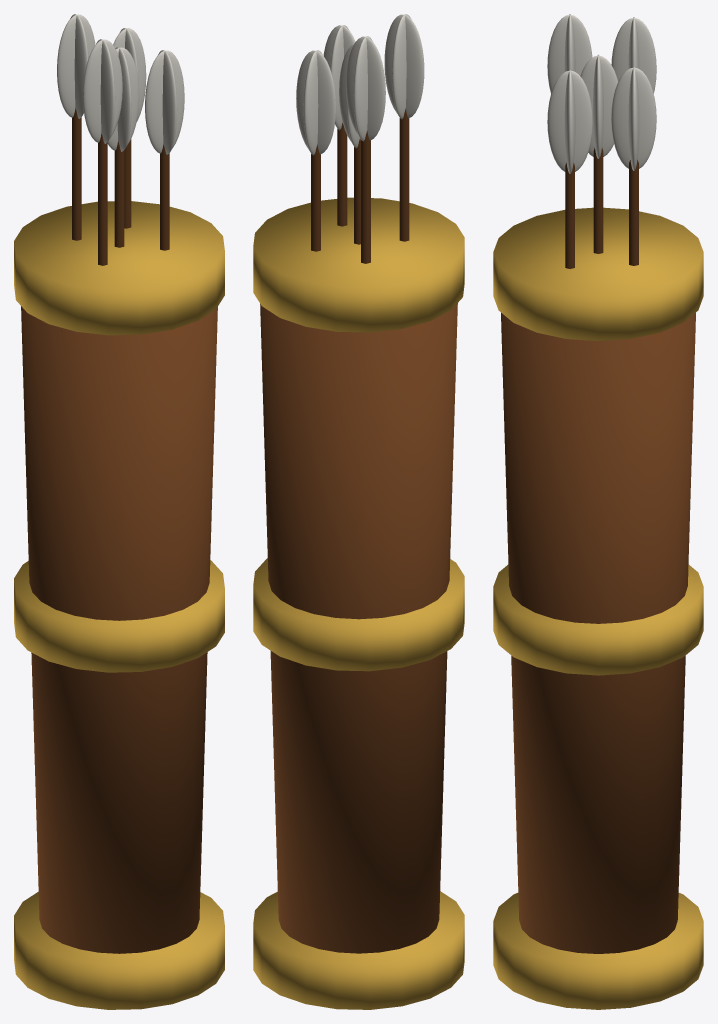
Rendered from quiver.glb.
The picture shows the model from 3 angles, left to right: view 1: azimuth 30°, elevation 25°; view 2: azimuth 150°, elevation 25°; view 3: azimuth 270°, elevation 25°; orthographic projection.
Visible parts, largest first — view 1: quiver; view 2: quiver; view 3: quiver.
Boxes of the visible parts, bbox=[...] form: quiver: bbox=[14, 14, 224, 1009]; quiver: bbox=[253, 14, 464, 1009]; quiver: bbox=[493, 14, 703, 1009].
Size of the model in its own units: 0.148 by 0.7275 by 0.148.
